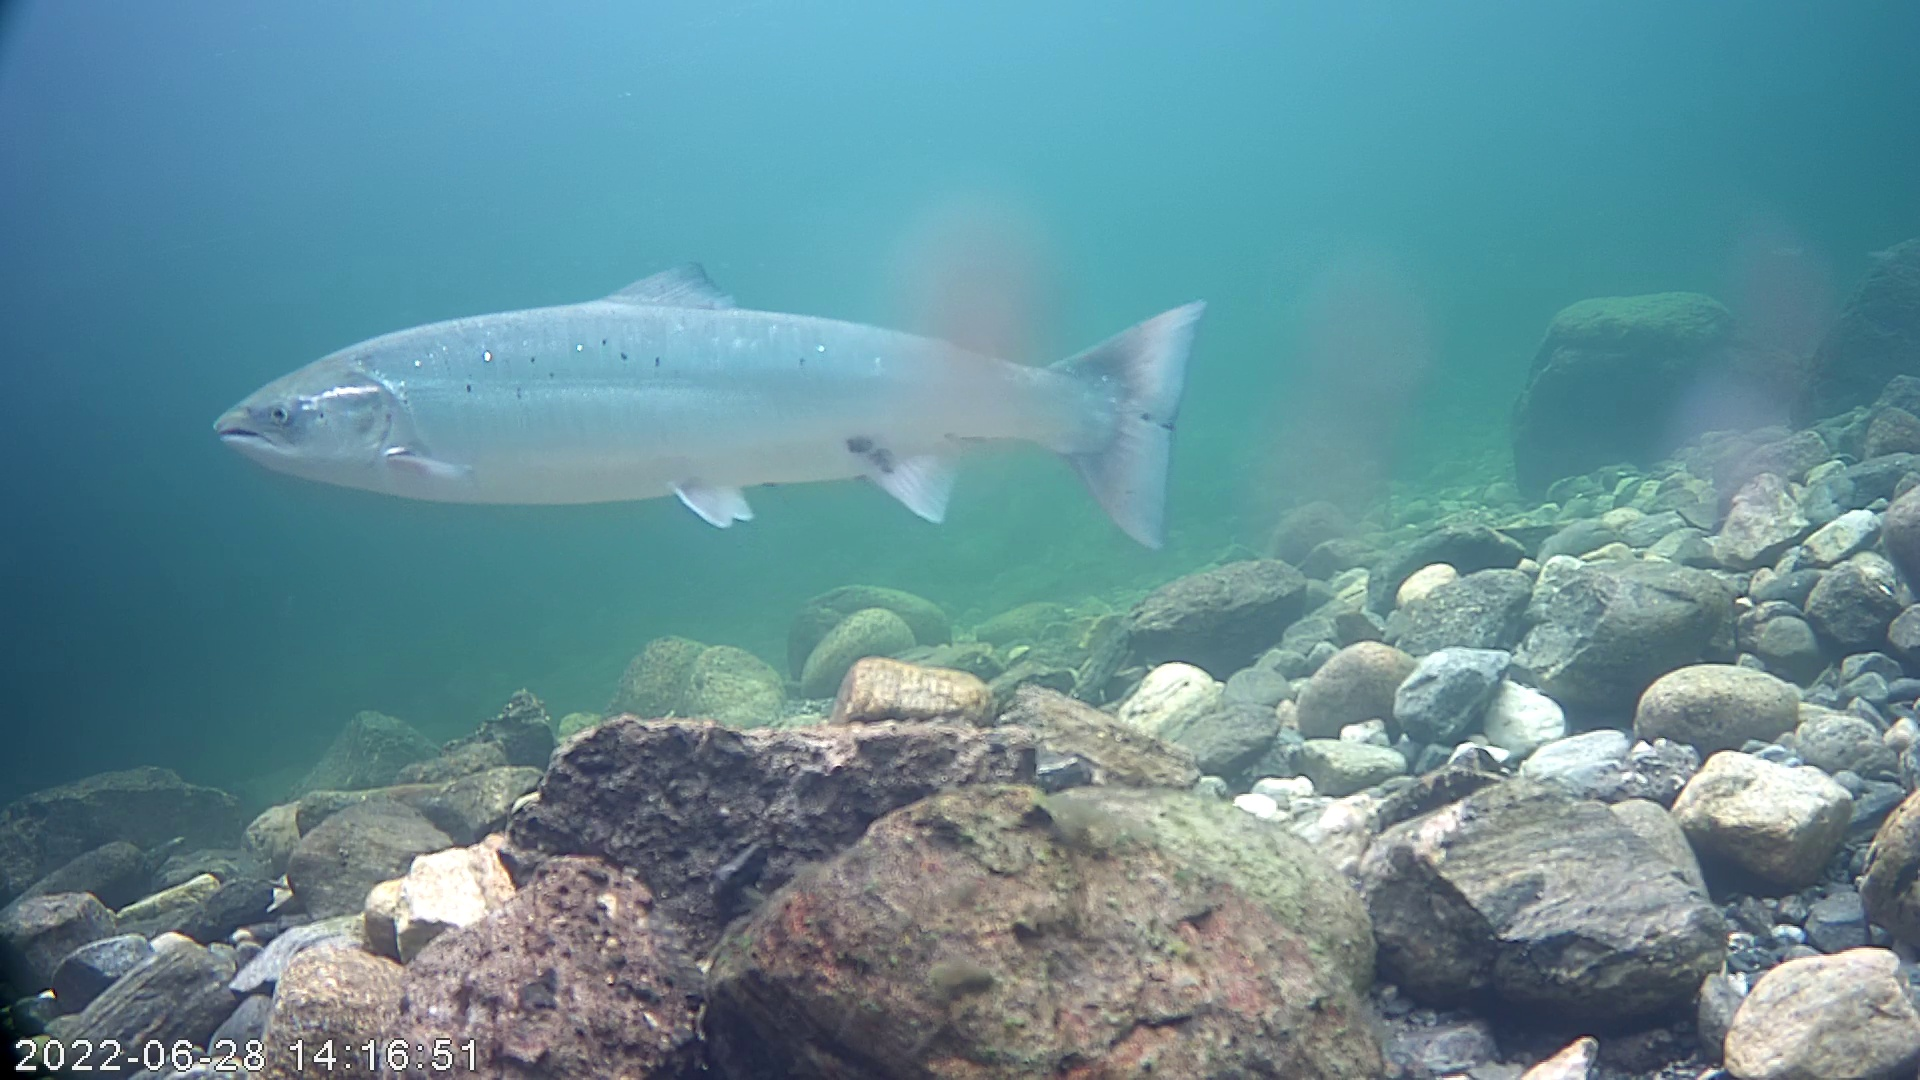salmon: (195, 152, 1209, 597)
